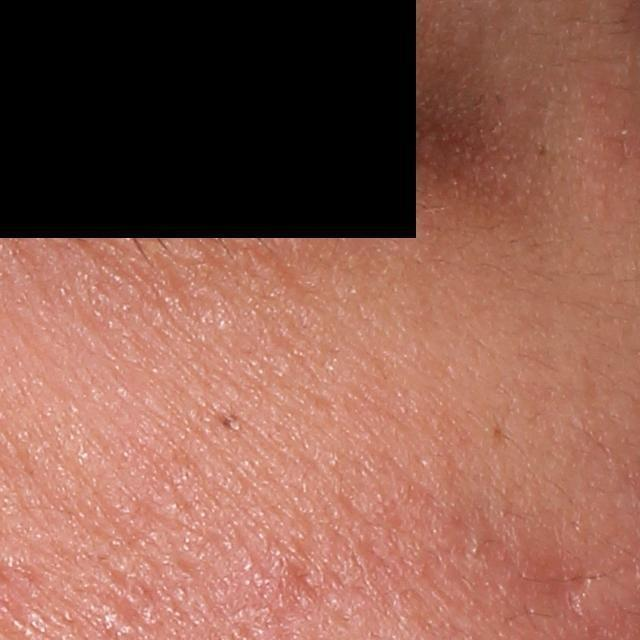nevus: (220, 407, 241, 435)
